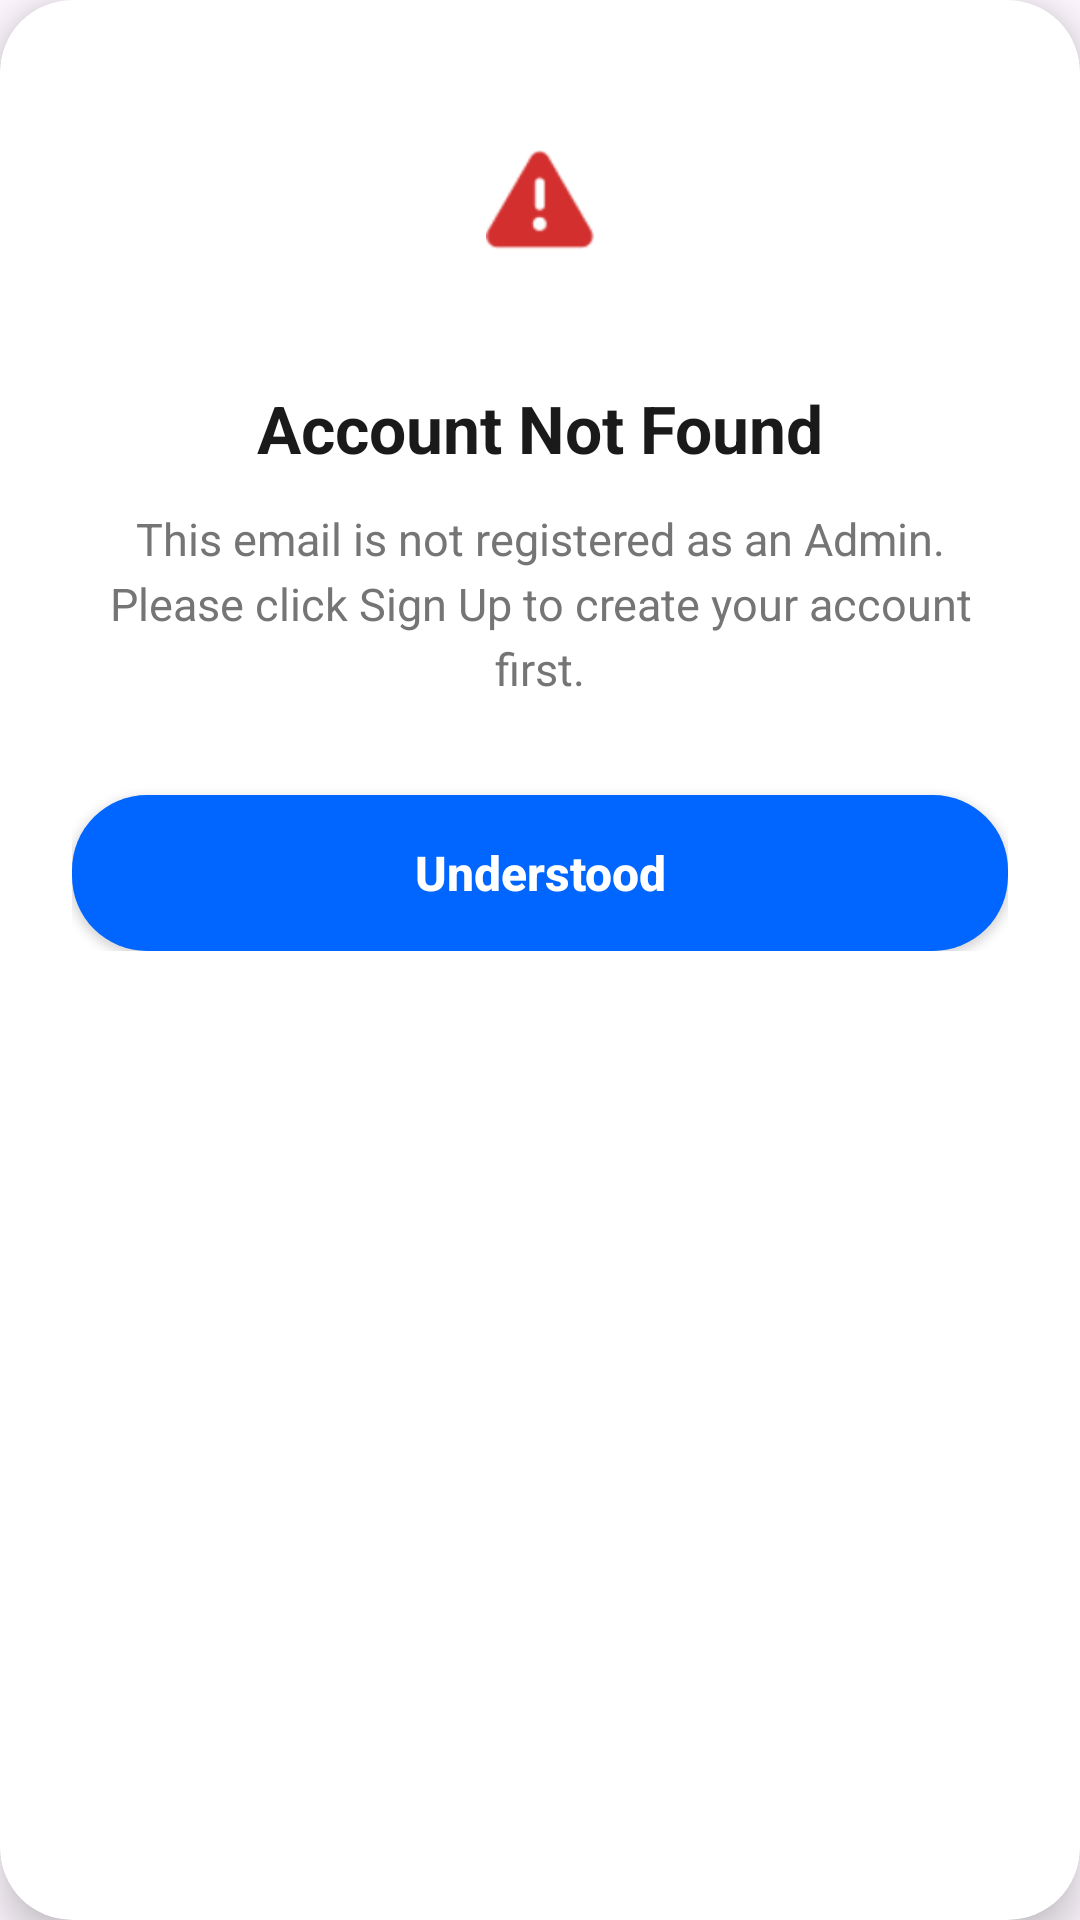

Icon bounding boxes for this 1080×1920 phone screenshot, format {"x1": x1, "y1": y1, "x2": x2, "y2": y2}:
alert: {"x1": 486, "y1": 150, "x2": 594, "y2": 249}
